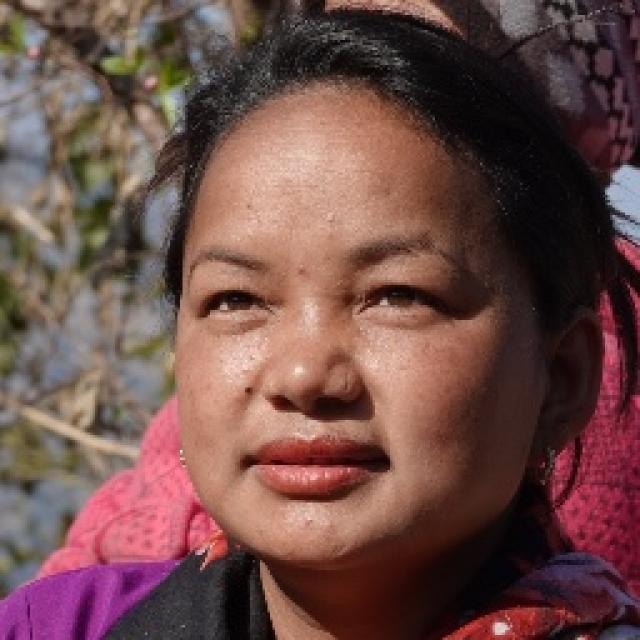earlobe: (524, 307, 604, 469)
